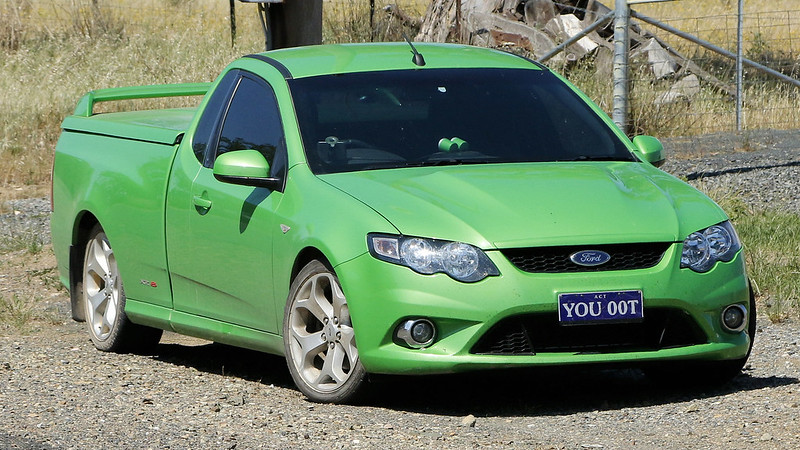number_plate: (553, 287, 667, 324)
